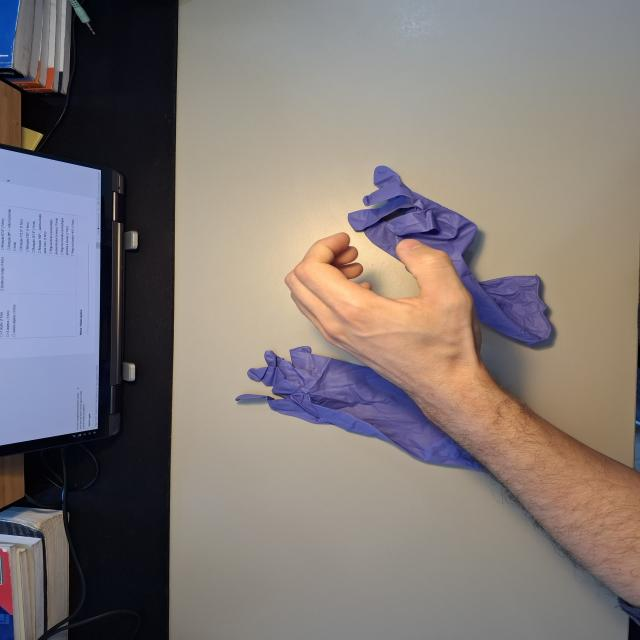glove_off: (279, 230, 502, 397)
